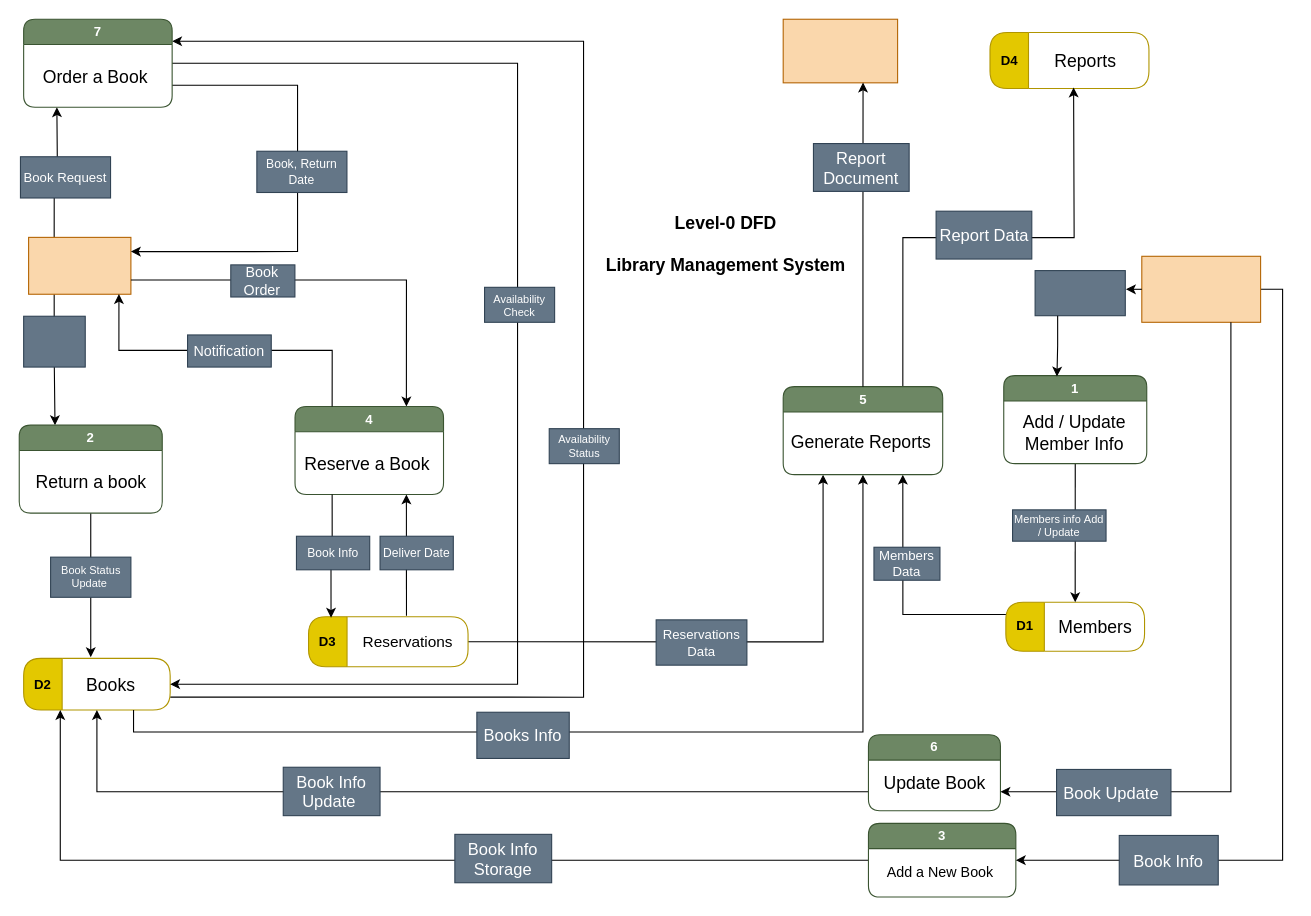
The diagram is 1311 pixels wide and 916 high, and some of its shapes have lost their labels. Each missing label, with the centre of its shape:
Book Add: the point at 54,341
Librarian: the point at 1201,288
Library Manager: the point at 840,50
Member: the point at 79,265
Member Info: the point at 1079,293
